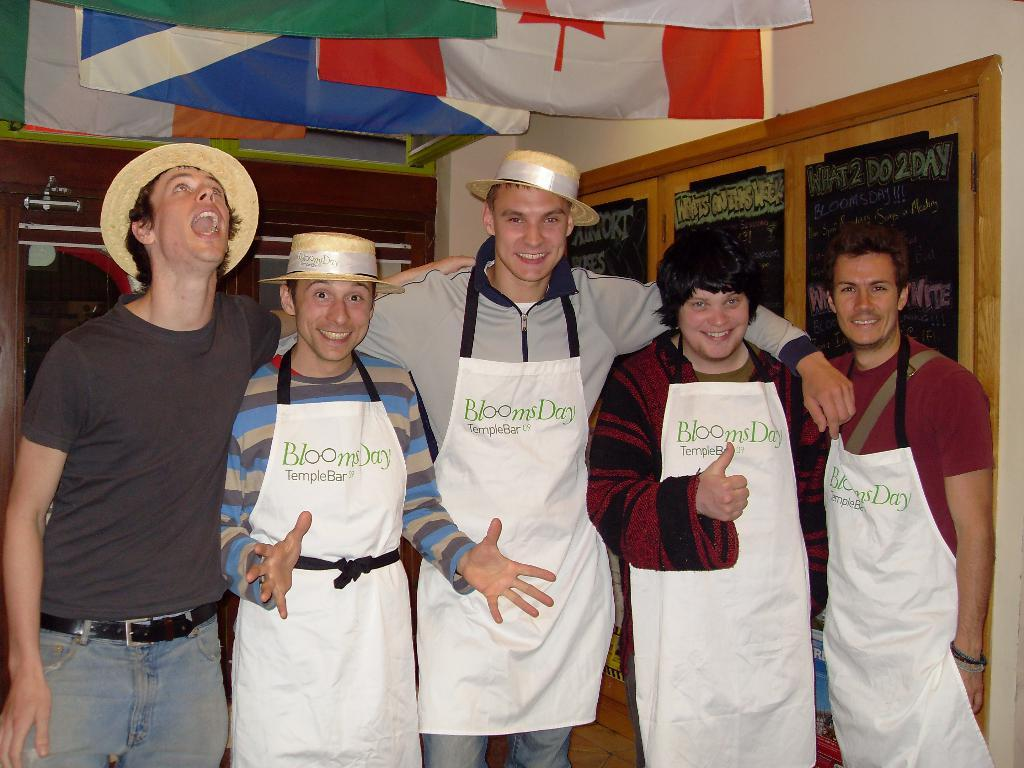Hat: (100, 141, 259, 284), (466, 148, 600, 229), (264, 230, 388, 286)
